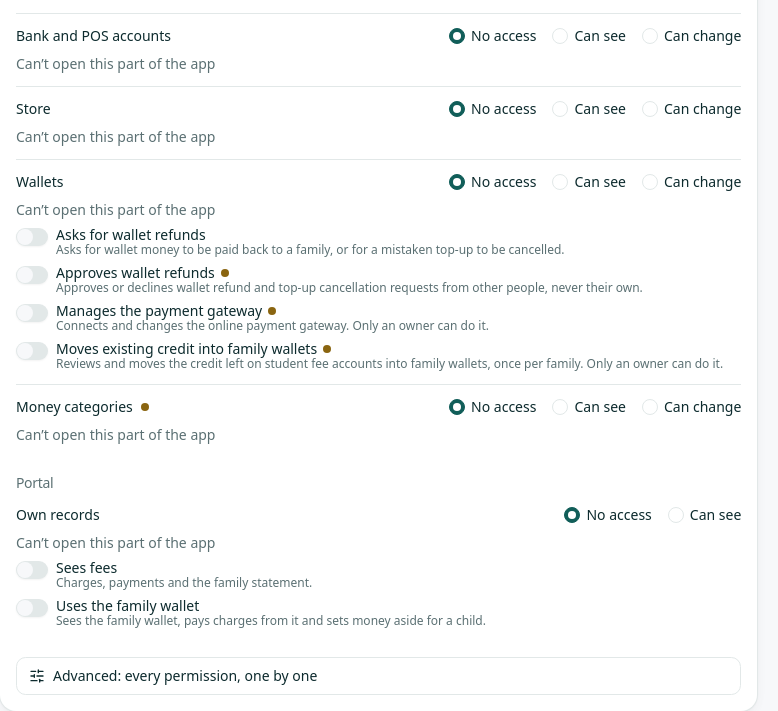
RolePage Advanced grid › counts held permissions and marks sensitive ones
The width and height of the screenshot is (778, 711).
(page scrolled)
Click the button "Advanced: every permission, one by one" at x=185, y=675, box x1=17 y1=658 x2=740 y2=694
(page scrolled)
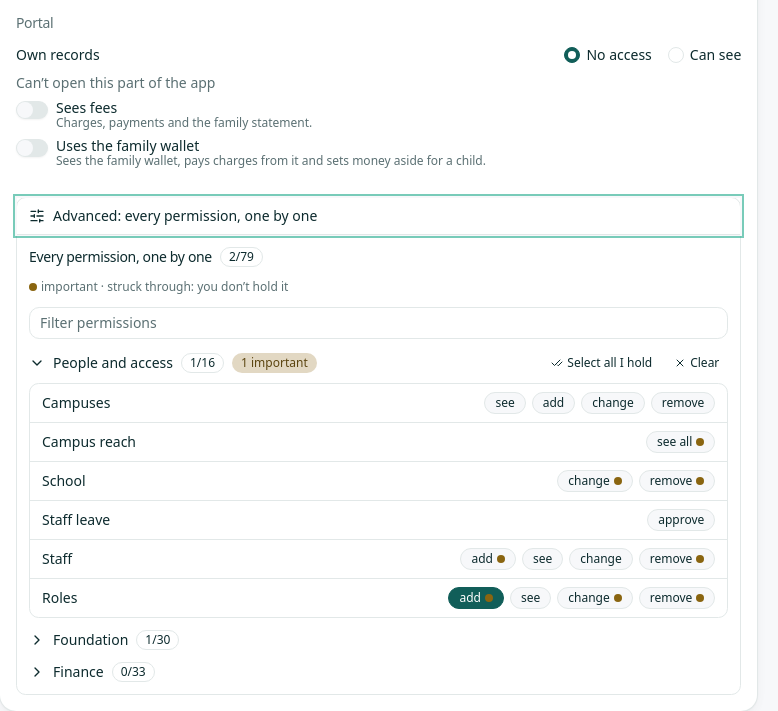
expect the text "1 important" is shown: met, box x1=232 y1=353 x2=317 y2=373
